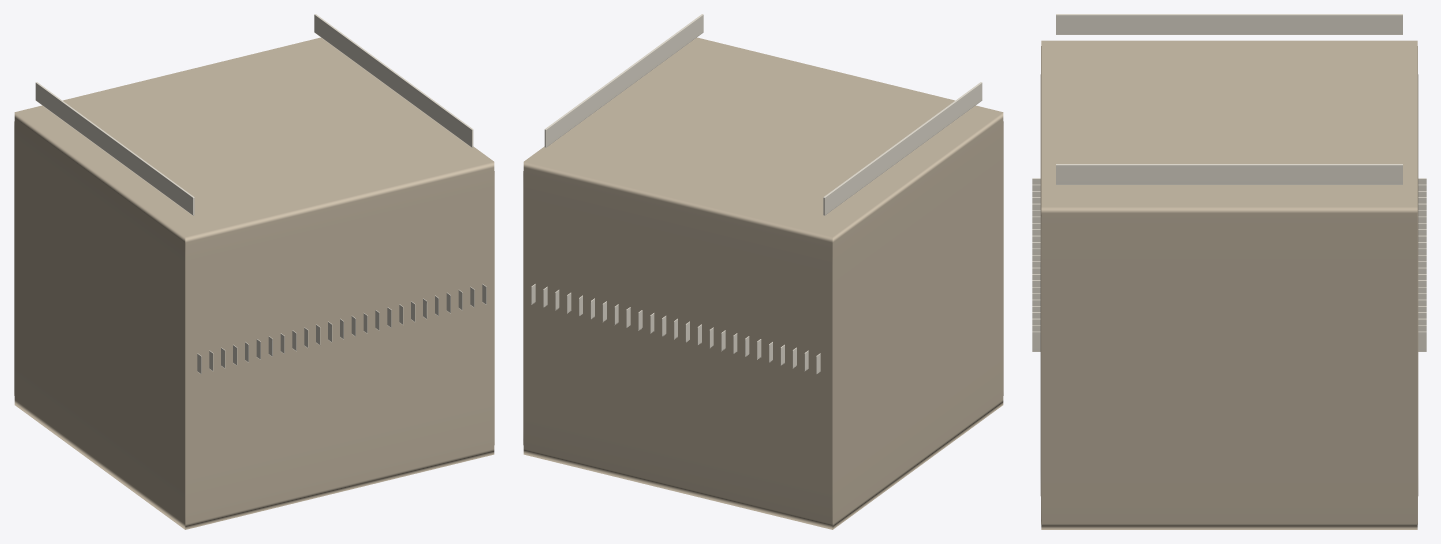
Rendered from rug-15-0.glb.
3 views of the same model, side by side, from view 1: azimuth 30°, elevation 25°; view 2: azimuth 150°, elevation 25°; view 3: azimuth 270°, elevation 25° (orthographic). The views are drawn at different scales.
Visible parts, largest first — view 1: woven-rug, upholstery; view 2: woven-rug, upholstery; view 3: woven-rug, upholstery.
Part boxes in pixels (box(x1,y1,x2,y2)): woven-rug: box(14, 37, 494, 529); upholstery: box(35, 14, 486, 374); woven-rug: box(523, 37, 1003, 529); upholstery: box(531, 14, 982, 374); woven-rug: box(1040, 40, 1418, 529); upholstery: box(1032, 14, 1426, 351).
Size of the model in its own units: 1 by 1 by 1.
